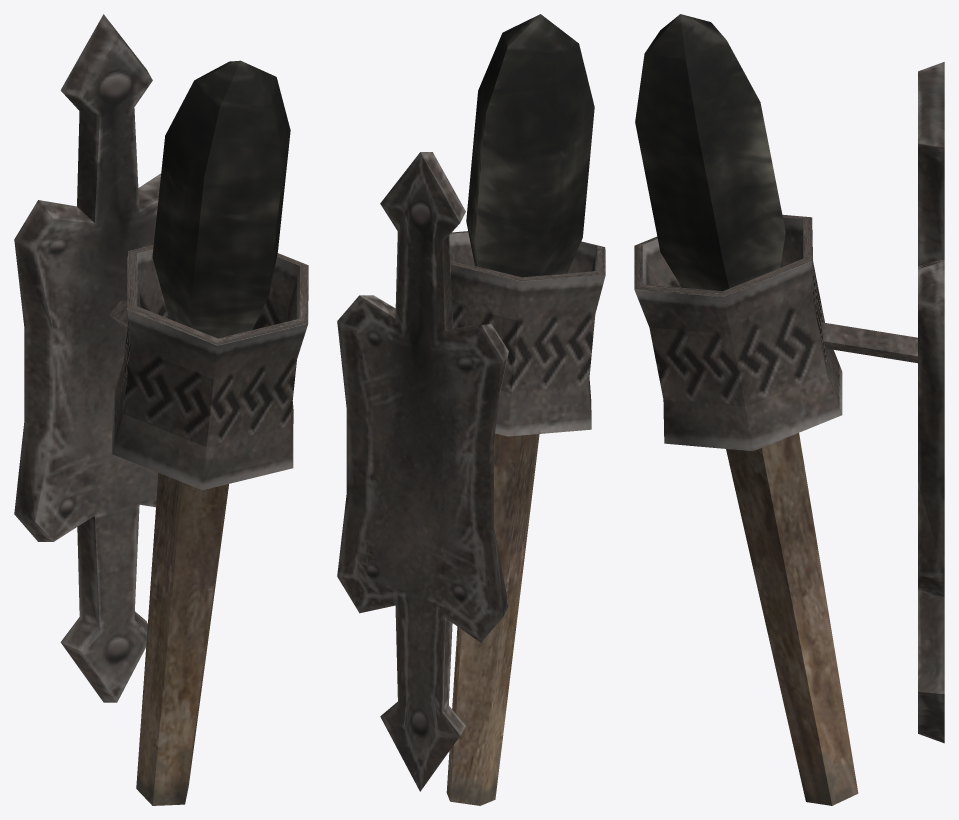
File: Torch.fbx
The picture shows the model from 3 angles, left to right: view 1: azimuth 30°, elevation 25°; view 2: azimuth 150°, elevation 25°; view 3: azimuth 270°, elevation 25°; orthographic projection. The views are drawn at different scales.
Parts seen in each view (by area): view 1: Mesh Object; view 2: Mesh Object; view 3: Mesh Object.
Part boxes in pixels (x1,y1,x2,y2): Mesh Object: (14, 14, 308, 805); Mesh Object: (337, 14, 605, 805); Mesh Object: (634, 14, 944, 805).
Size of the model in its own units: 0.2017 by 0.8359 by 0.2998.
